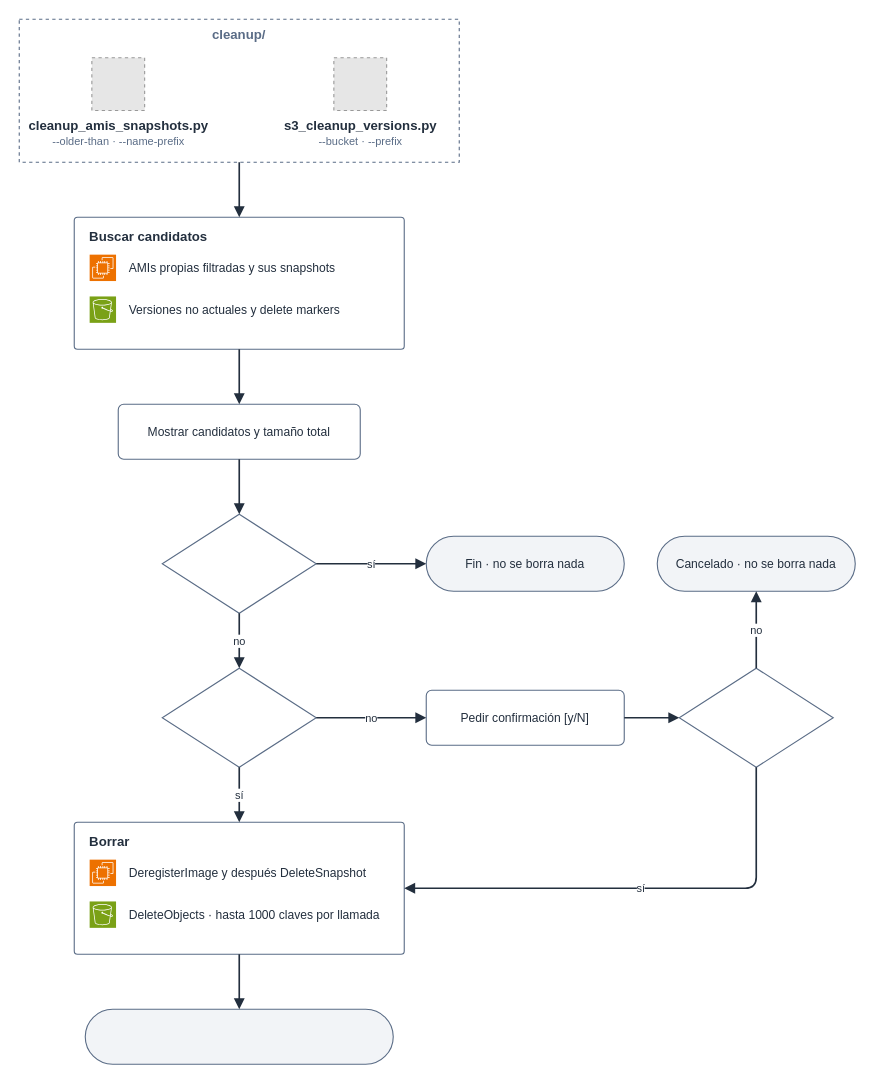
Image size: 875x1084. Some labels were removed from this diagram. Grey dashed boxes stand in for pictures. Here are the shapes that lost their labels. From the top down, the centre of each, then its label:
the point at 238,563: --dry-run?
the point at 238,717: --yes?
the point at 755,717: ¿confirma?
the point at 238,1036: Resumen · código 1 si algo falló
